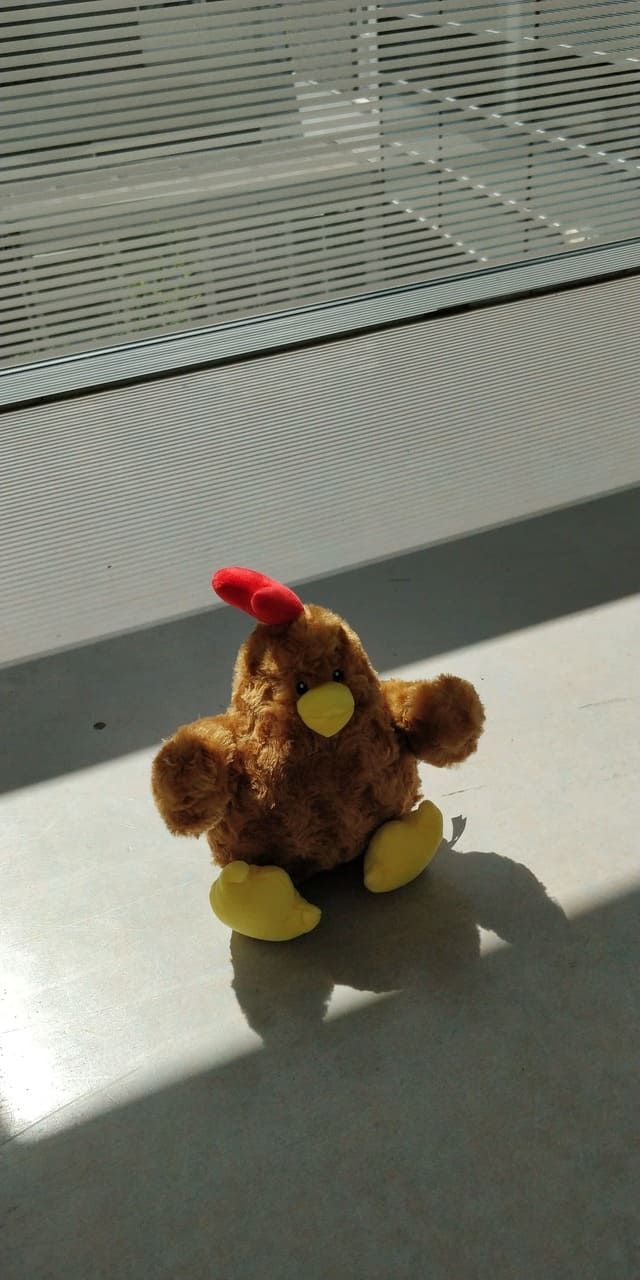fakeChicken: (151, 565, 486, 941)
